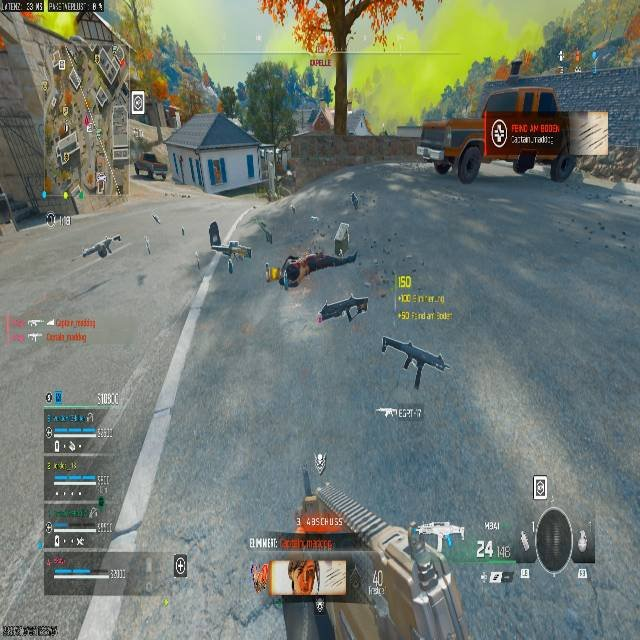player: (280, 169, 295, 192)
